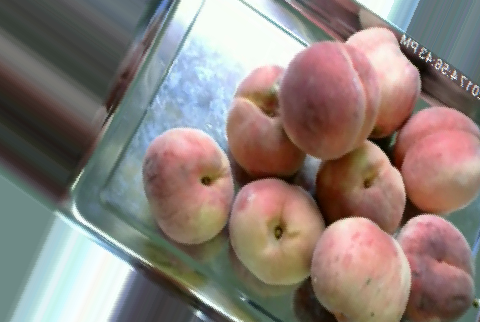Peach: (278, 39, 380, 159), (144, 126, 234, 245), (312, 215, 411, 321), (227, 178, 324, 286), (228, 57, 304, 179), (338, 26, 420, 137), (393, 107, 479, 212), (315, 139, 407, 236), (397, 214, 473, 320)
